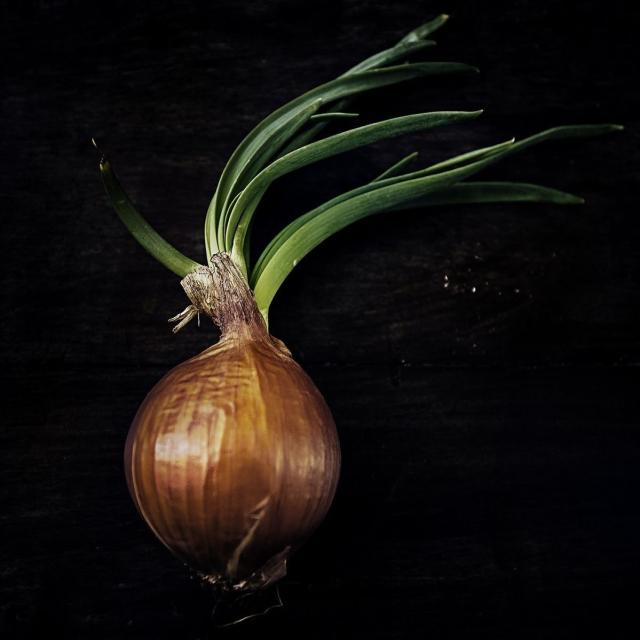sprouting: (70, 17, 483, 588)
